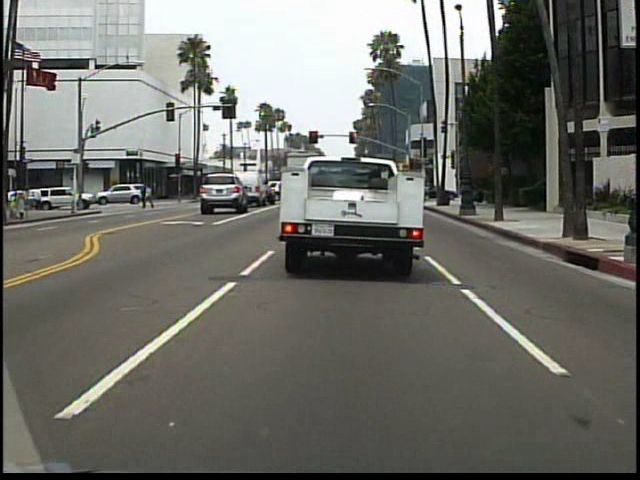person: (33, 185, 46, 213)
